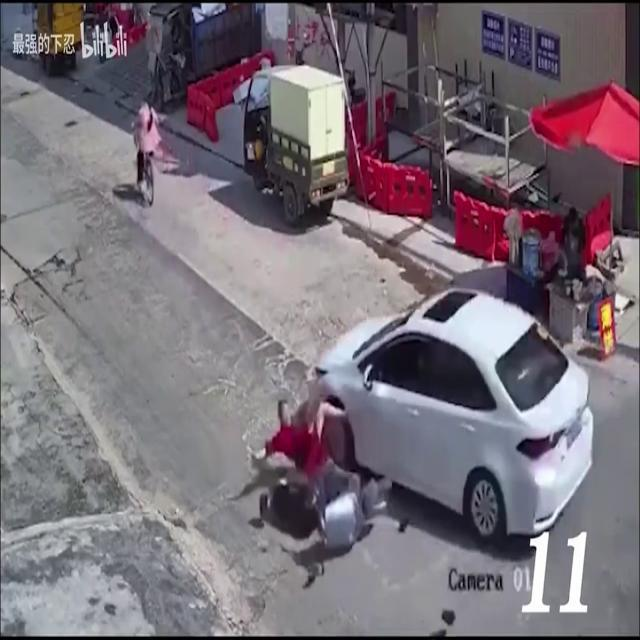multiple_accident: (175, 260, 604, 589)
